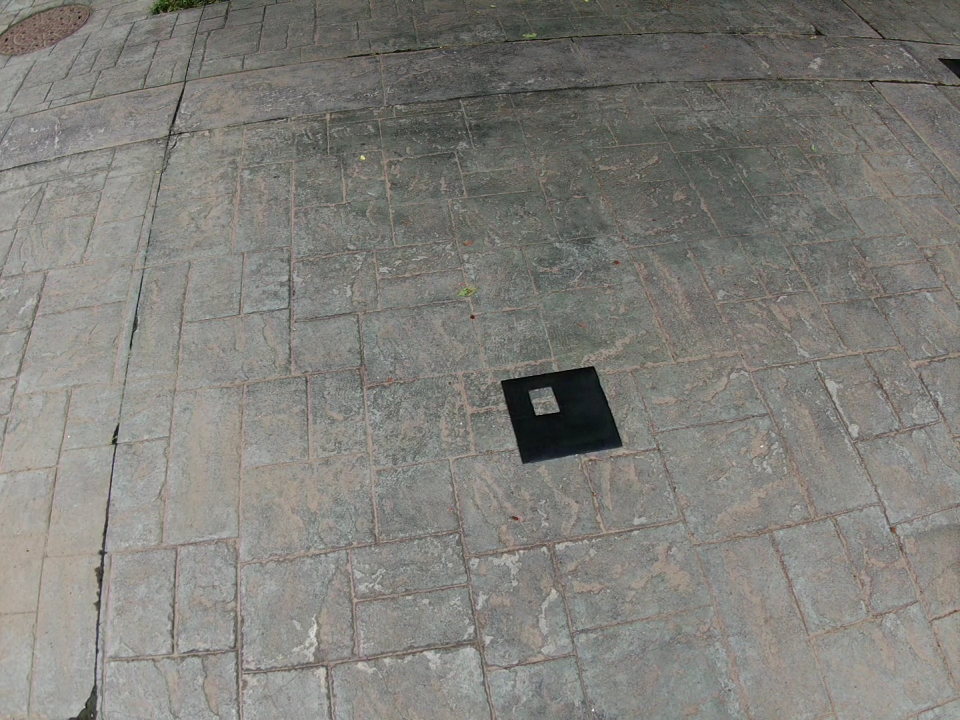qrcode: (501, 366, 622, 463)
